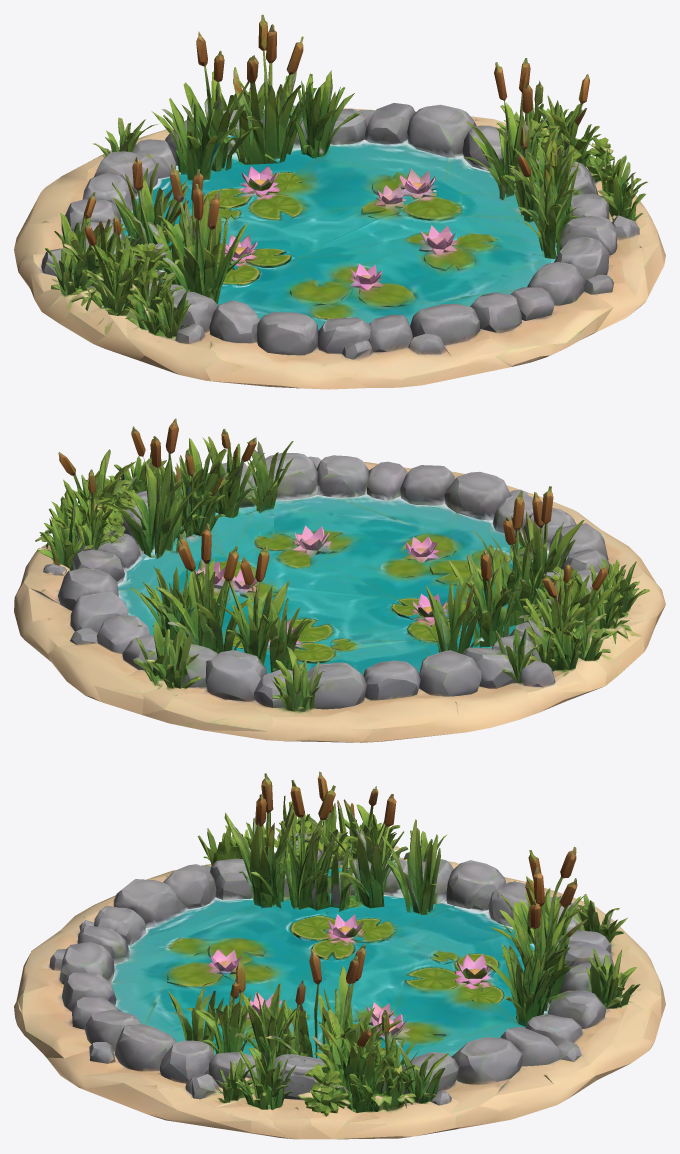
The model's file is camp_etang.glb.
3 renders of one model, top to bottom at view 1: azimuth 30°, elevation 25°; view 2: azimuth 150°, elevation 25°; view 3: azimuth 270°, elevation 25°, orthographic.
Size of the model in its own units: 1.9 by 0.4816 by 1.88.
1 material, 1 textured.
